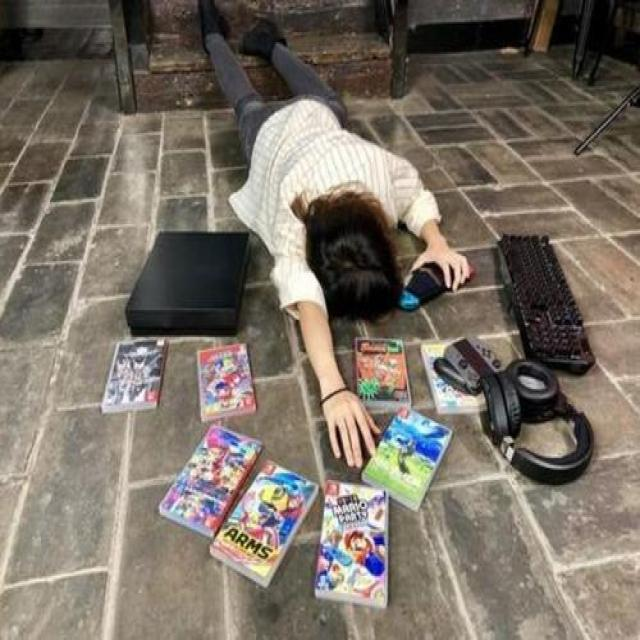down: (180, 8, 489, 492)
